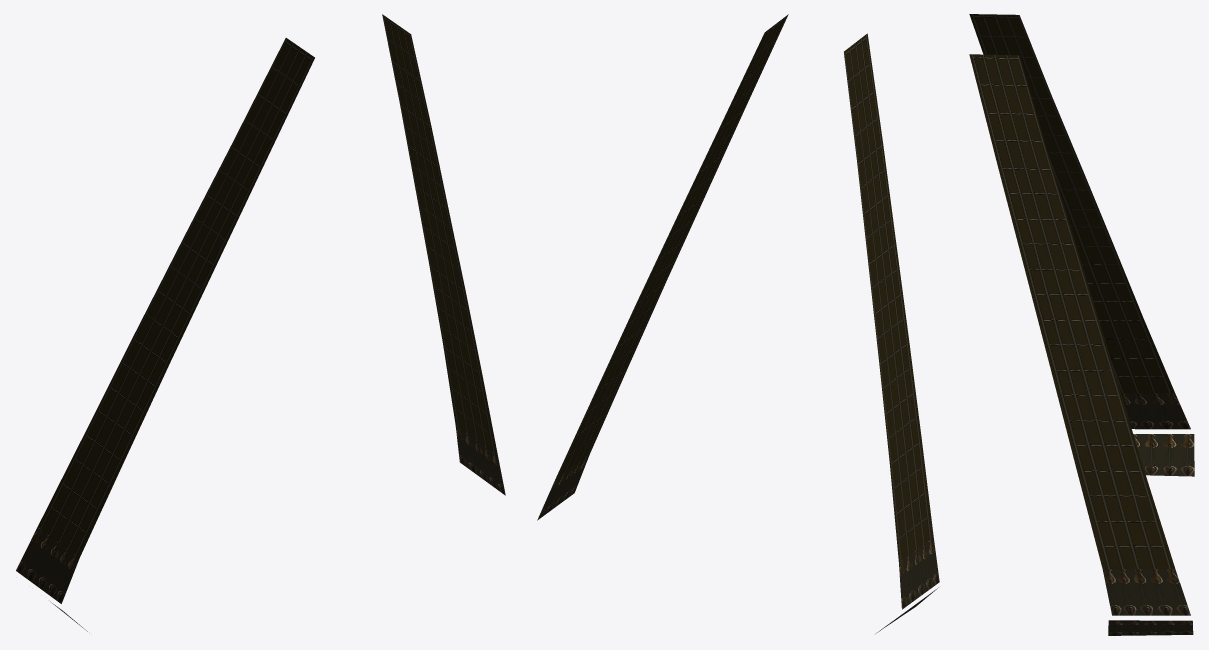
File: warshipL2-rigging_1.fbx
3 views of the same model, side by side, from view 1: azimuth 30°, elevation 25°; view 2: azimuth 150°, elevation 25°; view 3: azimuth 270°, elevation 25° (orthographic). The views are drawn at different scales.
Parts seen in each view (by area): view 1: rigging, pullys_1b, pullys_1b1; view 2: rigging, pullys_1b, pullys_1b1; view 3: rigging, pullys_1b1, riggingmount_pulleys1, pullys_1b, riggingmount_pulleys2.
Boxes of the visible parts, x1,y1,x2,y2 form: rigging: (37,14,497,557); pullys_1b: (16,527,79,603); pullys_1b1: (455,425,505,495); rigging: (556,14,933,562); pullys_1b: (899,537,939,609); pullys_1b1: (537,454,589,520); rigging: (969,14,1175,569); pullys_1b1: (1102,569,1190,615); riggingmount_pulleys1: (1133,434,1194,476); pullys_1b: (1121,393,1190,429); riggingmount_pulleys2: (1108,620,1193,635).
Size of the model in its own units: 9689 by 12592 by 4946.
1 material, 1 textured.
